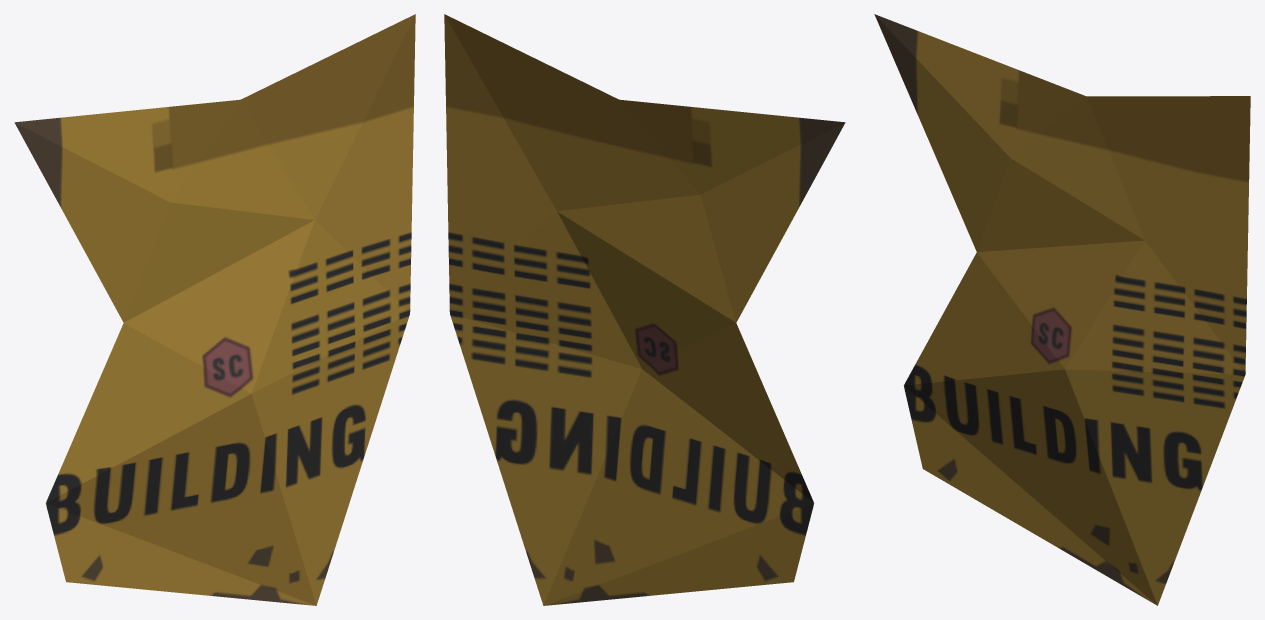
The model's file is SM_Gen_Env_Ivy_05.glb.
3 views of the same model, side by side, from view 1: azimuth 30°, elevation 25°; view 2: azimuth 150°, elevation 25°; view 3: azimuth 330°, elevation 25° (orthographic). The views are drawn at different scales.
Parts seen in each view (by area): view 1: SM_Gen_Env_Ivy_05; view 2: SM_Gen_Env_Ivy_05; view 3: SM_Gen_Env_Ivy_05.
Part boxes in pixels (bbox=[...]): SM_Gen_Env_Ivy_05: bbox=[14, 14, 415, 605]; SM_Gen_Env_Ivy_05: bbox=[444, 14, 845, 605]; SM_Gen_Env_Ivy_05: bbox=[874, 14, 1250, 605].
Bounding box in the file's own units: 1.16 × 1.56 × 0.0843.
Materials: 1 (1 with a texture image).
